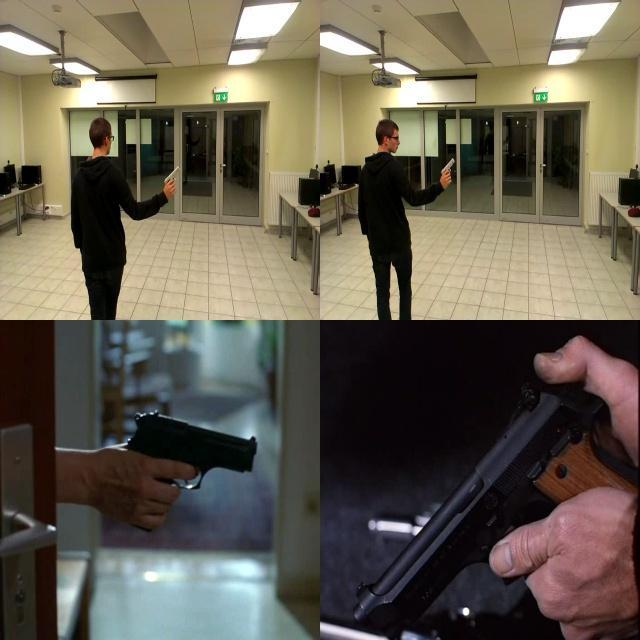gun-knife-thesis - v11 Yolov5 augmented: (347, 367, 639, 639), (108, 404, 258, 533), (154, 157, 180, 195), (433, 152, 457, 186)
